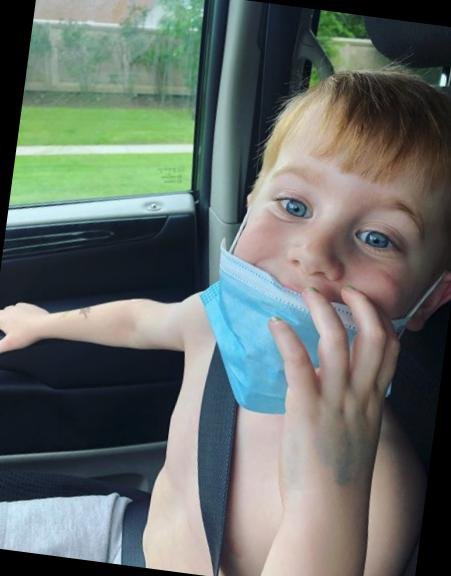mask_weared_incorrect: (224, 161, 433, 384)
